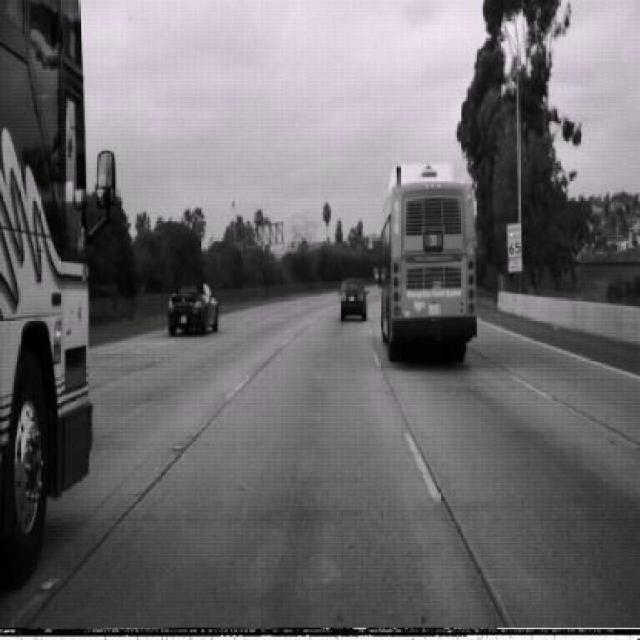speedLimit65: (506, 222, 522, 258)
